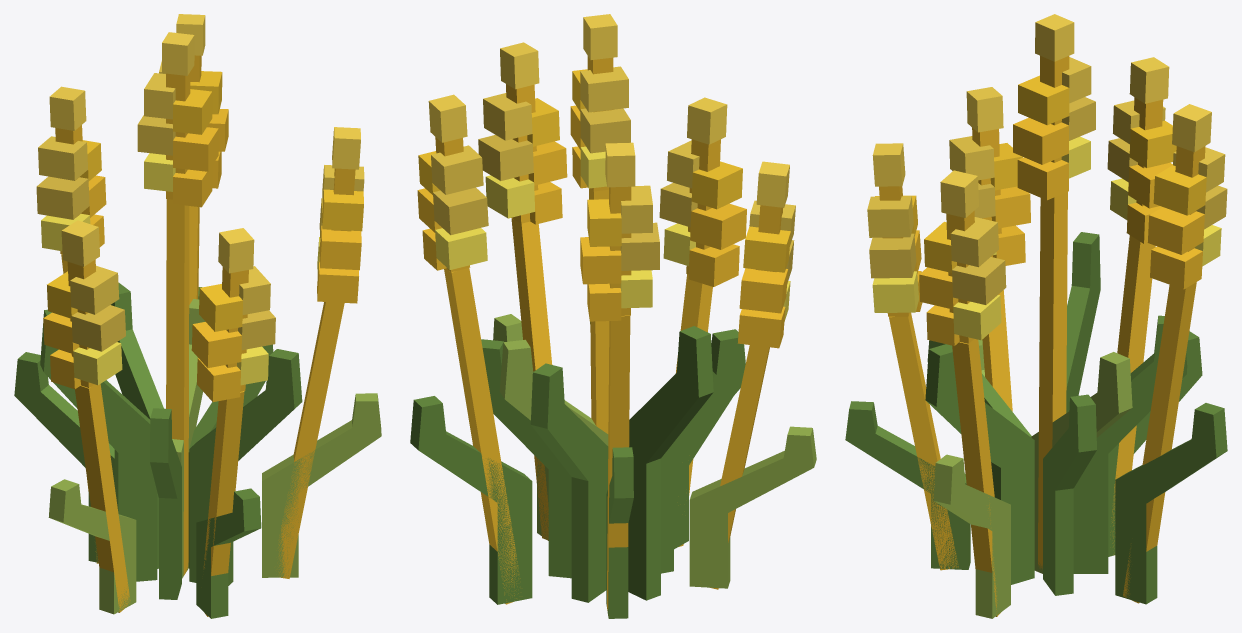
The model's file is SM_VMF_Crop_Wheat_Mature.fbx.
3 renders of one model, left to right at view 1: azimuth 30°, elevation 25°; view 2: azimuth 150°, elevation 25°; view 3: azimuth 270°, elevation 25°, orthographic. The views are drawn at different scales.
Visible parts, largest first — view 1: SM_VMF_Crop_Wheat_Mature_SeedHeads, SM_VMF_Crop_Wheat_Mature_Leaves, SM_VMF_Crop_Wheat_Mature_Stems; view 2: SM_VMF_Crop_Wheat_Mature_SeedHeads, SM_VMF_Crop_Wheat_Mature_Leaves, SM_VMF_Crop_Wheat_Mature_Stems; view 3: SM_VMF_Crop_Wheat_Mature_SeedHeads, SM_VMF_Crop_Wheat_Mature_Leaves, SM_VMF_Crop_Wheat_Mature_Stems.
Boxes of the visible parts, x1,y1,x2,y2 form: SM_VMF_Crop_Wheat_Mature_SeedHeads: [36, 14, 364, 401]; SM_VMF_Crop_Wheat_Mature_Leaves: [14, 283, 381, 618]; SM_VMF_Crop_Wheat_Mature_Stems: [61, 199, 344, 616]; SM_VMF_Crop_Wheat_Mature_SeedHeads: [417, 14, 795, 348]; SM_VMF_Crop_Wheat_Mature_Leaves: [410, 314, 816, 618]; SM_VMF_Crop_Wheat_Mature_Stems: [444, 188, 769, 615]; SM_VMF_Crop_Wheat_Mature_SeedHeads: [867, 14, 1227, 345]; SM_VMF_Crop_Wheat_Mature_Leaves: [845, 232, 1227, 618]; SM_VMF_Crop_Wheat_Mature_Stems: [889, 191, 1196, 616].
Size of the model in its own units: 55.4 by 88.27 by 55.33.
1 material, 1 textured.
